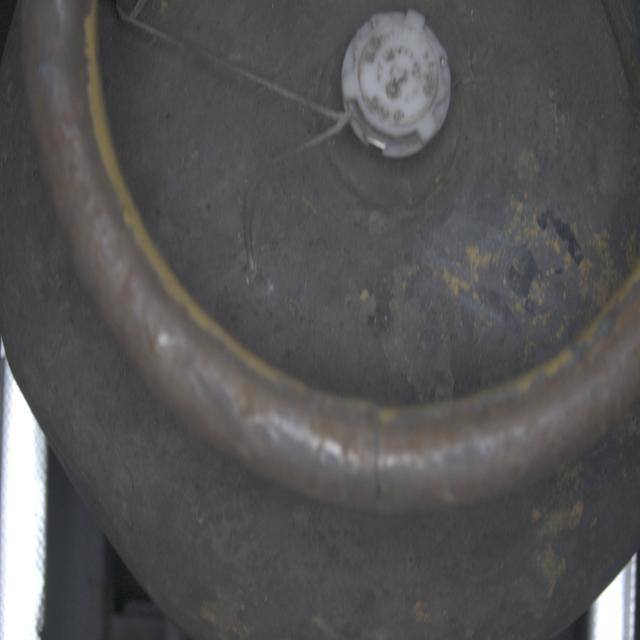Cap: (339, 10, 457, 164)
